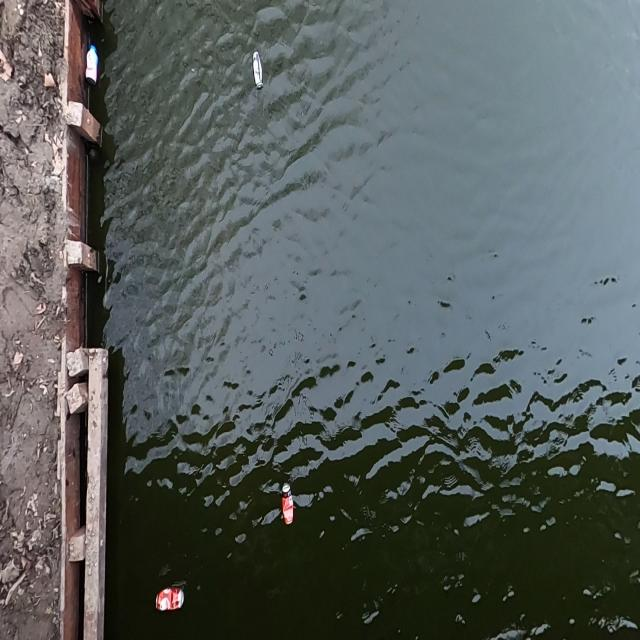Bouteille plastique: (82, 40, 101, 90)
Non plastique: (276, 473, 301, 536), (150, 583, 188, 618), (246, 45, 266, 95)
